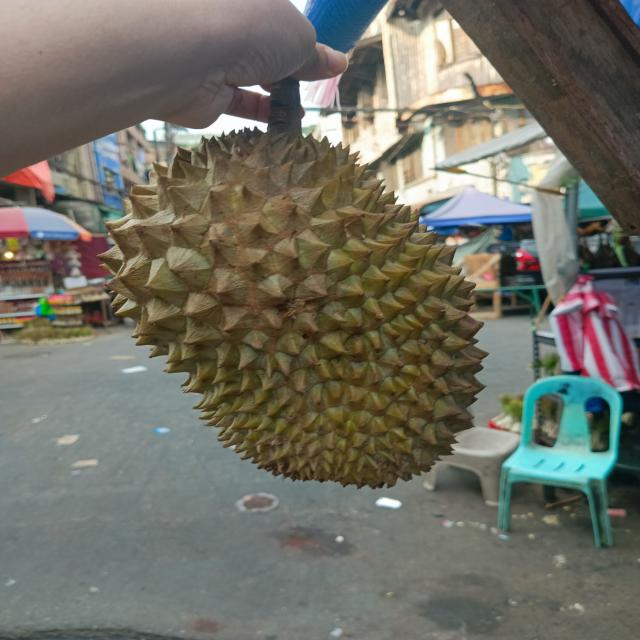mature: (96, 122, 488, 486)
